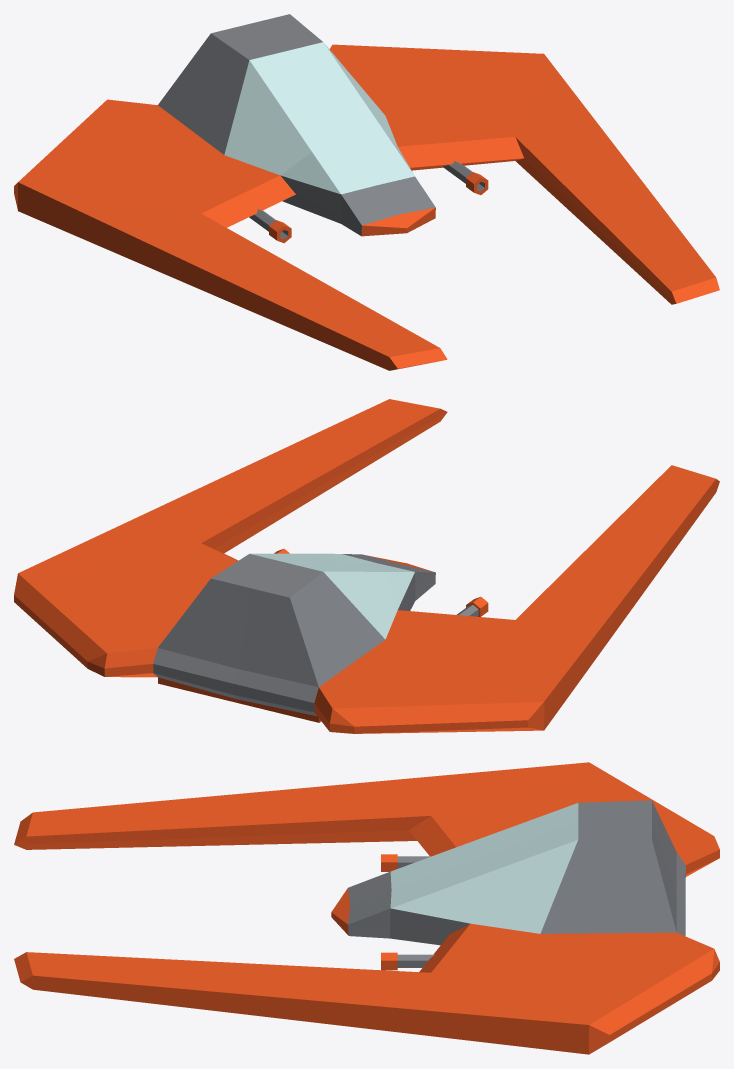
The model's file is drone_10_0.gltf.
The picture shows the model from 3 angles, top to bottom: view 1: azimuth 30°, elevation 25°; view 2: azimuth 150°, elevation 25°; view 3: azimuth 270°, elevation 25°; orthographic projection. The views are drawn at different scales.
Parts seen in each view (by area): view 1: 10; view 2: 10; view 3: 10.
Boxes of the visible parts, bbox=[...] form: 10: bbox=[14, 14, 719, 370]; 10: bbox=[14, 399, 719, 733]; 10: bbox=[14, 762, 719, 1054].
Bounding box in the file's own units: 5.92 × 1.15 × 6.72.
1 material, 1 textured.
